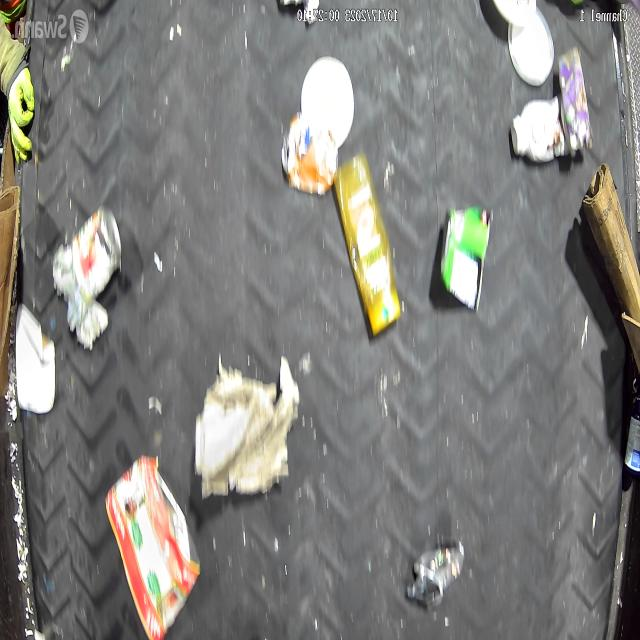can: (104, 451, 202, 640), (76, 206, 121, 295)
